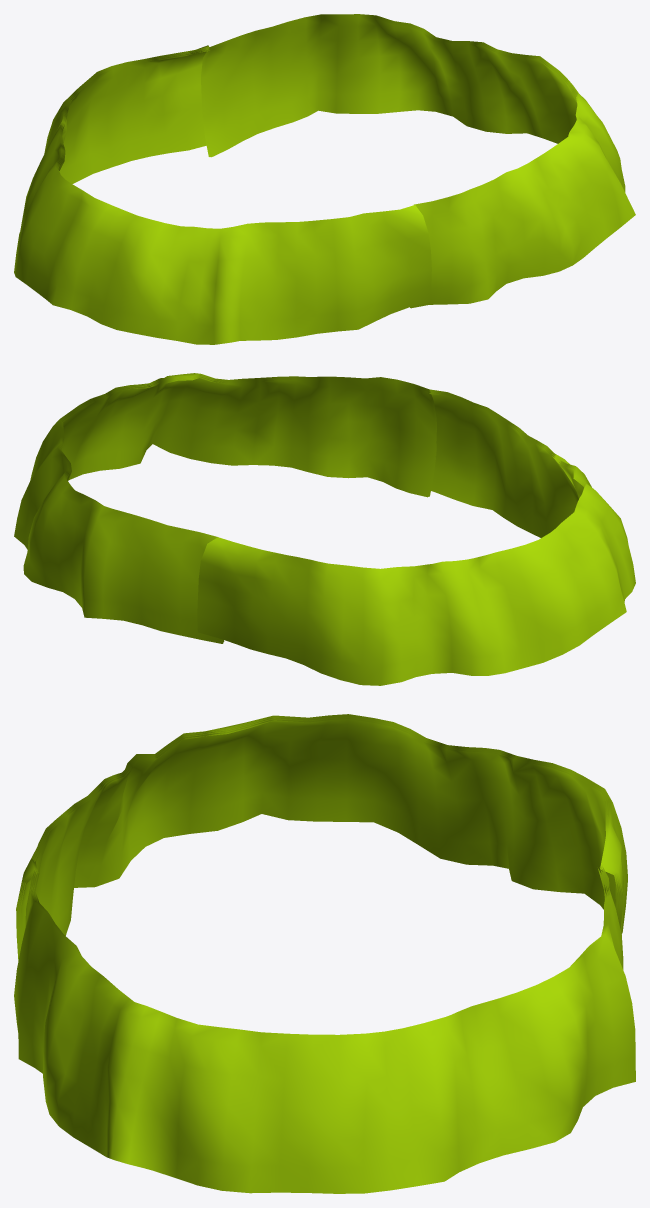
The model's file is waist-tassels.glb.
3 views of the same model, one above another, from view 1: azimuth 30°, elevation 25°; view 2: azimuth 150°, elevation 25°; view 3: azimuth 270°, elevation 25° (orthographic). The views are drawn at different scales.
Parts seen in each view (by area): view 1: waist-tassels; view 2: waist-tassels; view 3: waist-tassels.
Boxes of the visible parts, x1,y1,x2,y2 form: waist-tassels: (14, 14, 635, 344); waist-tassels: (14, 373, 635, 685); waist-tassels: (14, 714, 635, 1193).
Bounding box in the file's own units: 1.88 × 0.3815 × 1.31.
